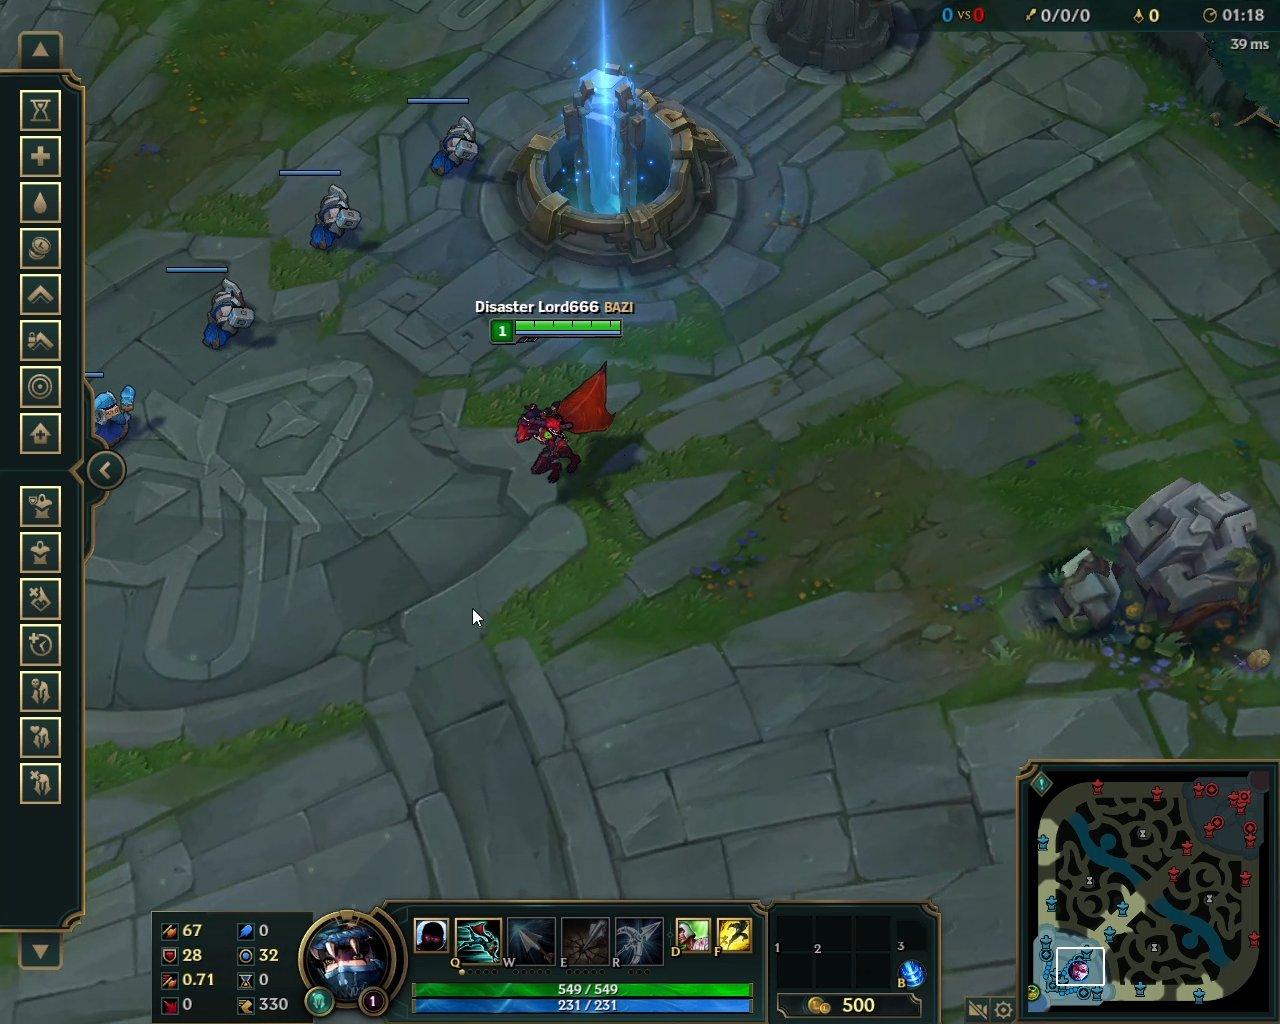Vayne: (501, 355, 623, 491)
